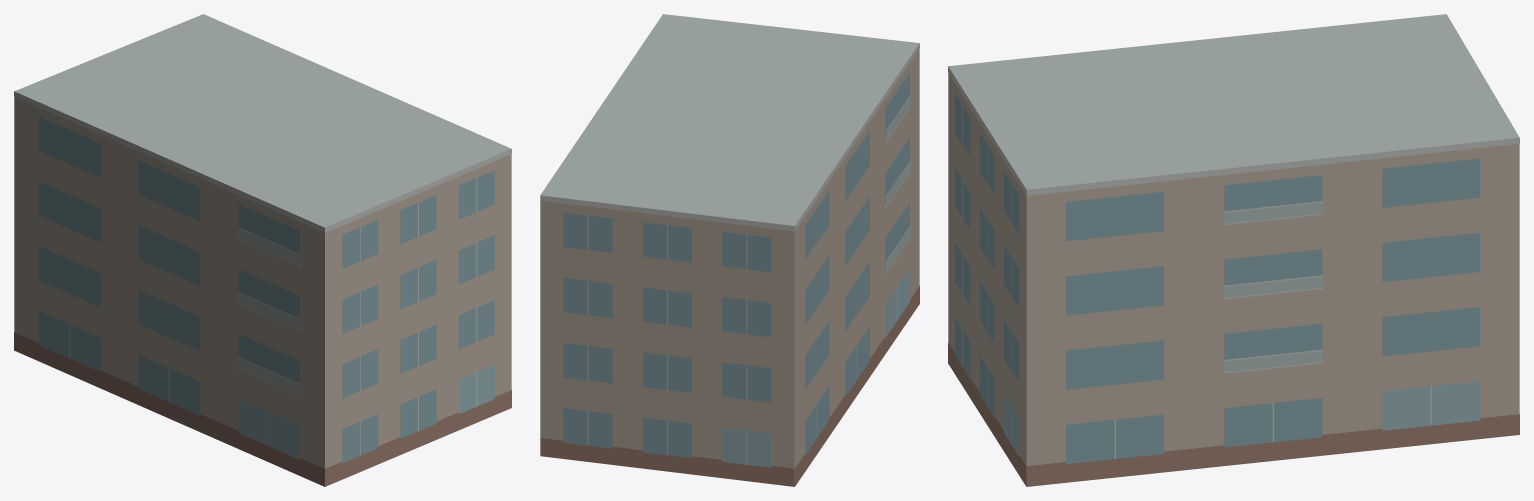
File: survey-upis-32895619.glb
The picture shows the model from 3 angles, left to right: view 1: azimuth 30°, elevation 25°; view 2: azimuth 150°, elevation 25°; view 3: azimuth 270°, elevation 25°; orthographic projection. The views are drawn at different scales.
Visible parts, largest first — view 1: survey-upis-32895619.tmp; view 2: survey-upis-32895619.tmp; view 3: survey-upis-32895619.tmp.
Boxes of the visible parts, left/top/right/bottom form: survey-upis-32895619.tmp: left=14, top=14, right=511, bottom=486; survey-upis-32895619.tmp: left=540, top=14, right=919, bottom=486; survey-upis-32895619.tmp: left=948, top=14, right=1519, bottom=486.
Bounding box in the file's own units: 14.92 × 11.75 × 20.5.
